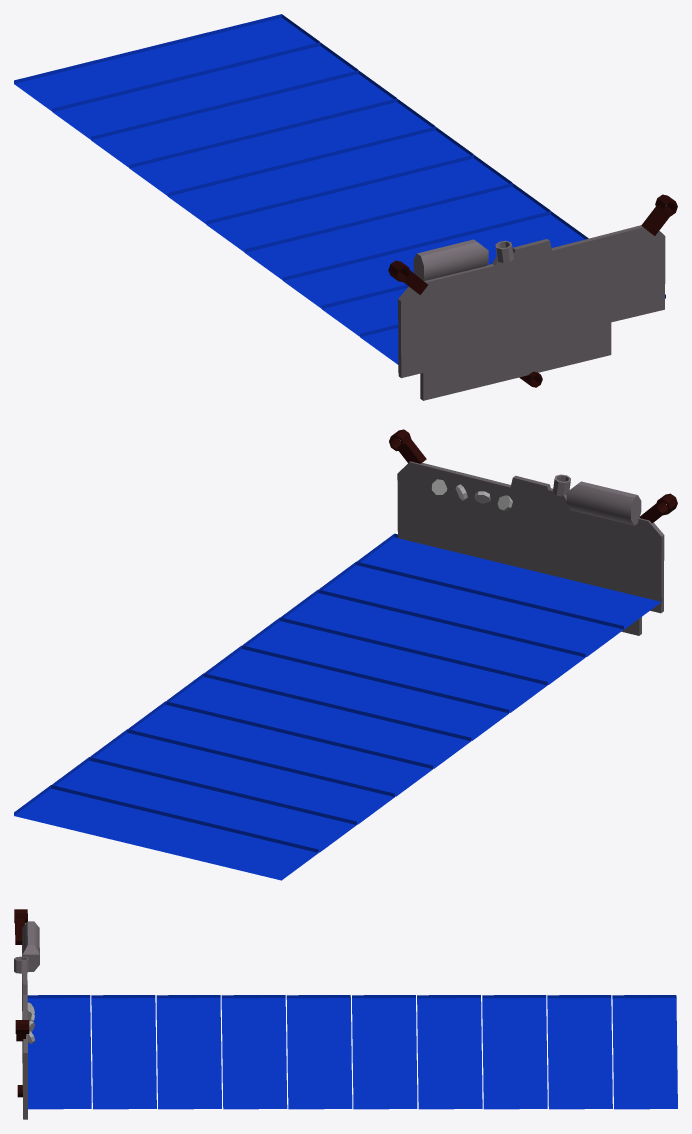
The model's file is starlink_med.gltf.
3 views of the same model, one above another, from view 1: azimuth 30°, elevation 25°; view 2: azimuth 150°, elevation 25°; view 3: azimuth 270°, elevation 25° (orthographic). The views are drawn at different scales.
Parts seen in each view (by area): view 1: Shell.001, Cube.003, Cube.005, Cube.006, Cube.004, Cube.008, Cube.009, Cube.007, Cube.002, Cube.001, FuelTank.001, Cube (+1 smaller); view 2: Shell.001, Cube.009, Cube.008, Cube.001, Cube.002, Cube.003, Cube.007, Cube.004, Cube.006, Cube.005, Cube, FuelTank.001; view 3: Cube.007, Cube.008, Cube.001, Cube.006, Cube.009, Cube.002, Cube.005, Cube.003, Cube.004, Cube, Shell.001, FuelTank.001.
Boxes of the visible parts, left/top/right/bottom form: Shell.001: left=398, top=225, right=665, bottom=400; Cube.003: left=244, top=183, right=550, bottom=280; Cube.005: left=167, top=126, right=473, bottom=223; Cube.006: left=129, top=98, right=435, bottom=195; Cube.004: left=206, top=155, right=512, bottom=252; Cube.008: left=52, top=42, right=358, bottom=139; Cube.009: left=14, top=14, right=319, bottom=111; Cube.007: left=91, top=70, right=396, bottom=167; Cube.002: left=283, top=211, right=588, bottom=308; Cube.001: left=321, top=263, right=492, bottom=336; FuelTank.001: left=413, top=239, right=488, bottom=280; Cube: left=360, top=294, right=665, bottom=364; Shell.001: left=397, top=461, right=664, bottom=635; Cube.009: left=14, top=785, right=318, bottom=880; Cube.008: left=52, top=757, right=356, bottom=852; Cube.001: left=319, top=561, right=623, bottom=656; Cube.002: left=281, top=589, right=585, bottom=684; Cube.003: left=243, top=617, right=547, bottom=712; Cube.007: left=90, top=729, right=394, bottom=824; Cube.004: left=205, top=645, right=509, bottom=740; Cube.006: left=128, top=701, right=433, bottom=796; Cube.005: left=167, top=673, right=471, bottom=768; Cube: left=357, top=533, right=661, bottom=628; FuelTank.001: left=566, top=481, right=641, bottom=525; Cube.007: left=482, top=995, right=547, bottom=1109; Cube.008: left=547, top=995, right=612, bottom=1109; Cube.001: left=91, top=995, right=156, bottom=1109; Cube.006: left=417, top=995, right=482, bottom=1109; Cube.009: left=612, top=995, right=677, bottom=1109; Cube.002: left=156, top=995, right=221, bottom=1109; Cube.005: left=352, top=995, right=417, bottom=1109; Cube.003: left=221, top=995, right=287, bottom=1109; Cube.004: left=286, top=995, right=352, bottom=1109; Cube: left=27, top=995, right=91, bottom=1109; Shell.001: left=22, top=945, right=27, bottom=1119; FuelTank.001: left=22, top=921, right=39, bottom=971.
Size of the model in its own units: 2.95 by 1.55 by 7.08.
